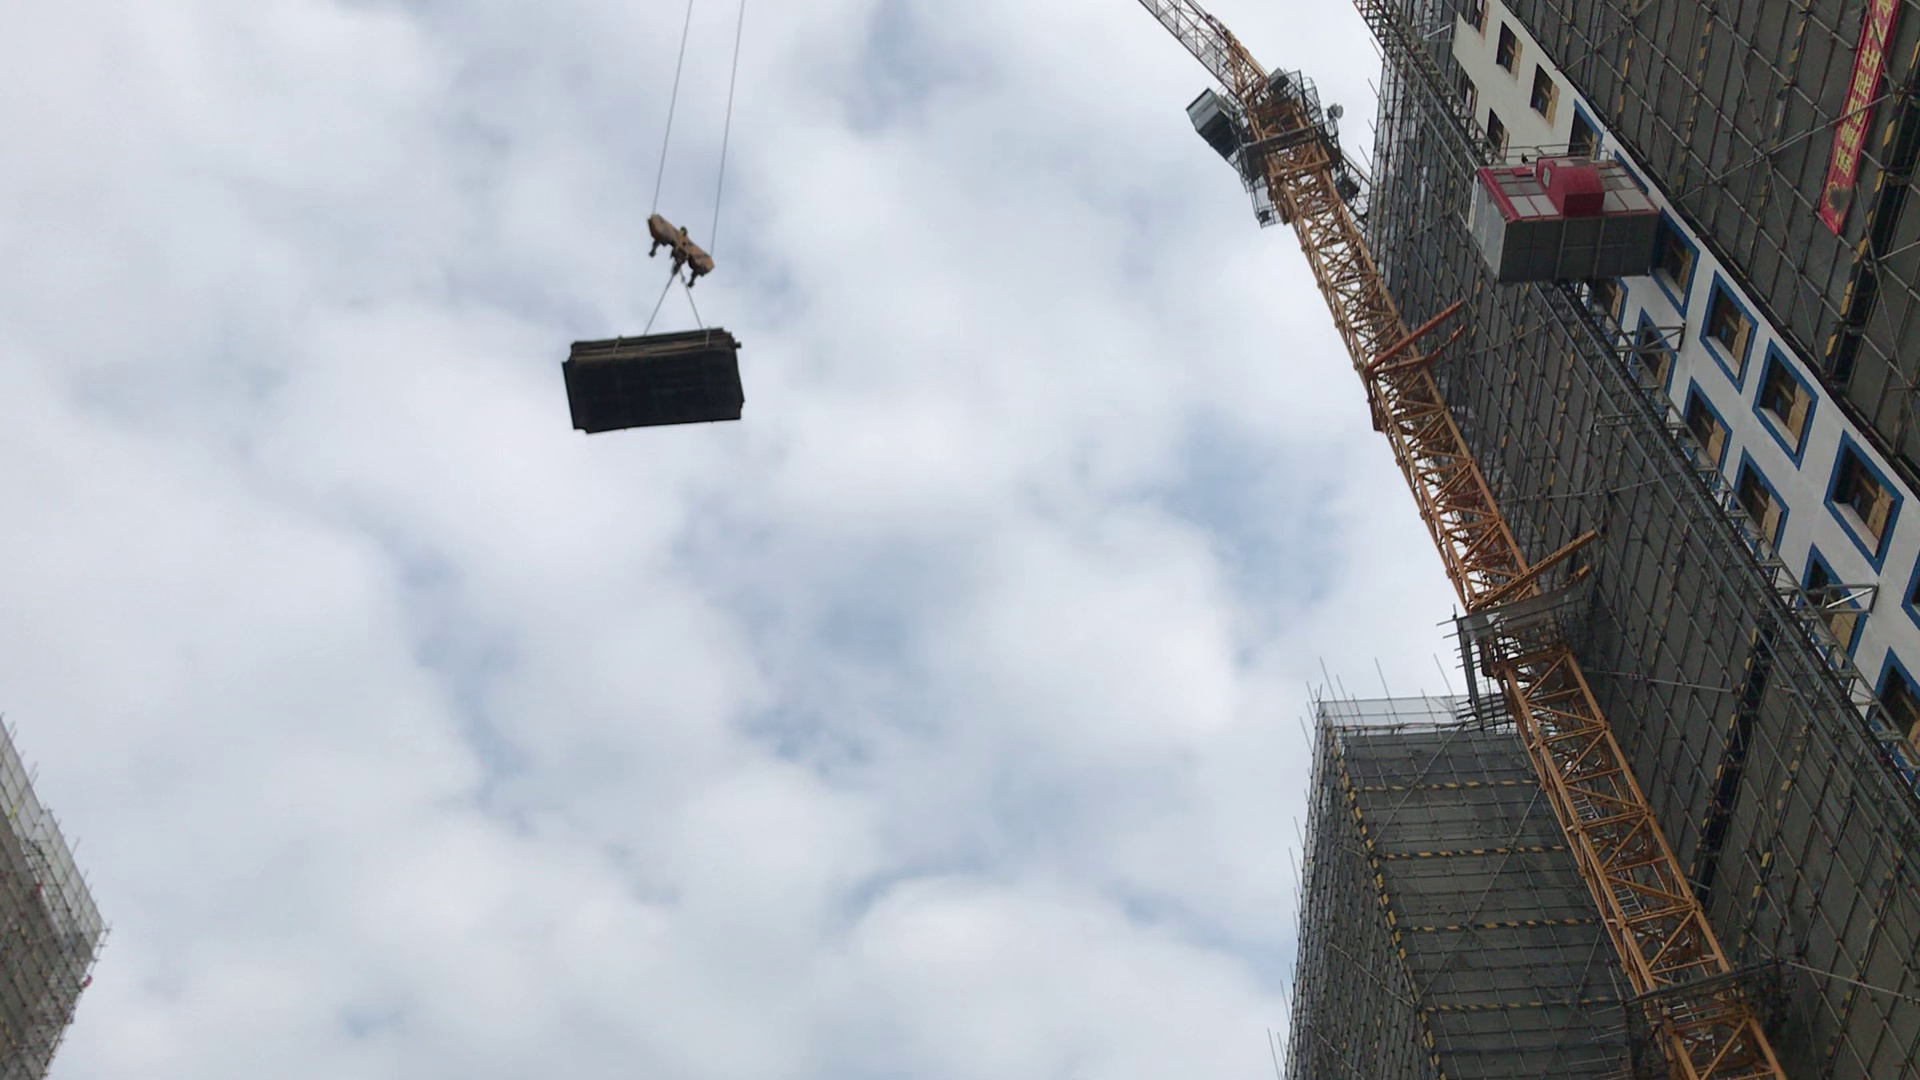board: (537, 320, 773, 454)
hook: (626, 195, 744, 301)
slogan: (1776, 5, 1920, 269)
